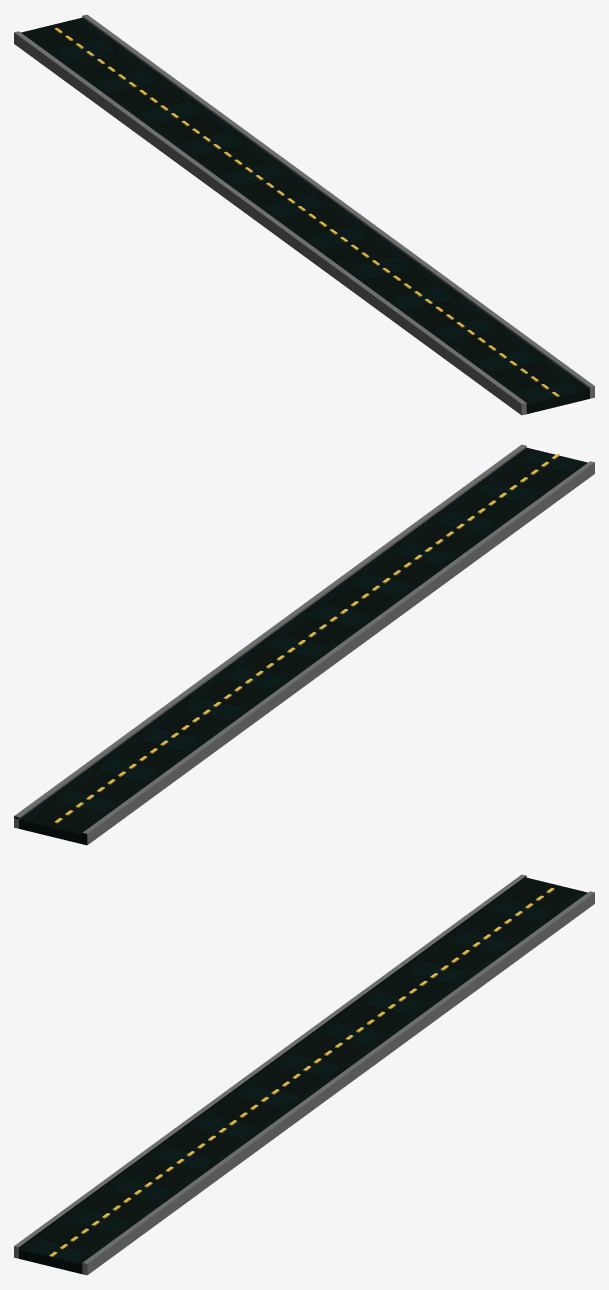
File: RoadTileLonger.glb
3 renders of one model, top to bottom at view 1: azimuth 30°, elevation 25°; view 2: azimuth 150°, elevation 25°; view 3: azimuth 330°, elevation 25°, orthographic.
Visible parts, largest first — view 1: Road Tile; view 2: Road Tile; view 3: Road Tile.
Part boxes in pixels (x1,y1,x2,y2): Road Tile: [14, 14, 594, 415]; Road Tile: [14, 444, 594, 845]; Road Tile: [14, 874, 594, 1275].
Bounding box in the file's own units: 8 × 1.2 × 96.
1 material, 1 textured.
